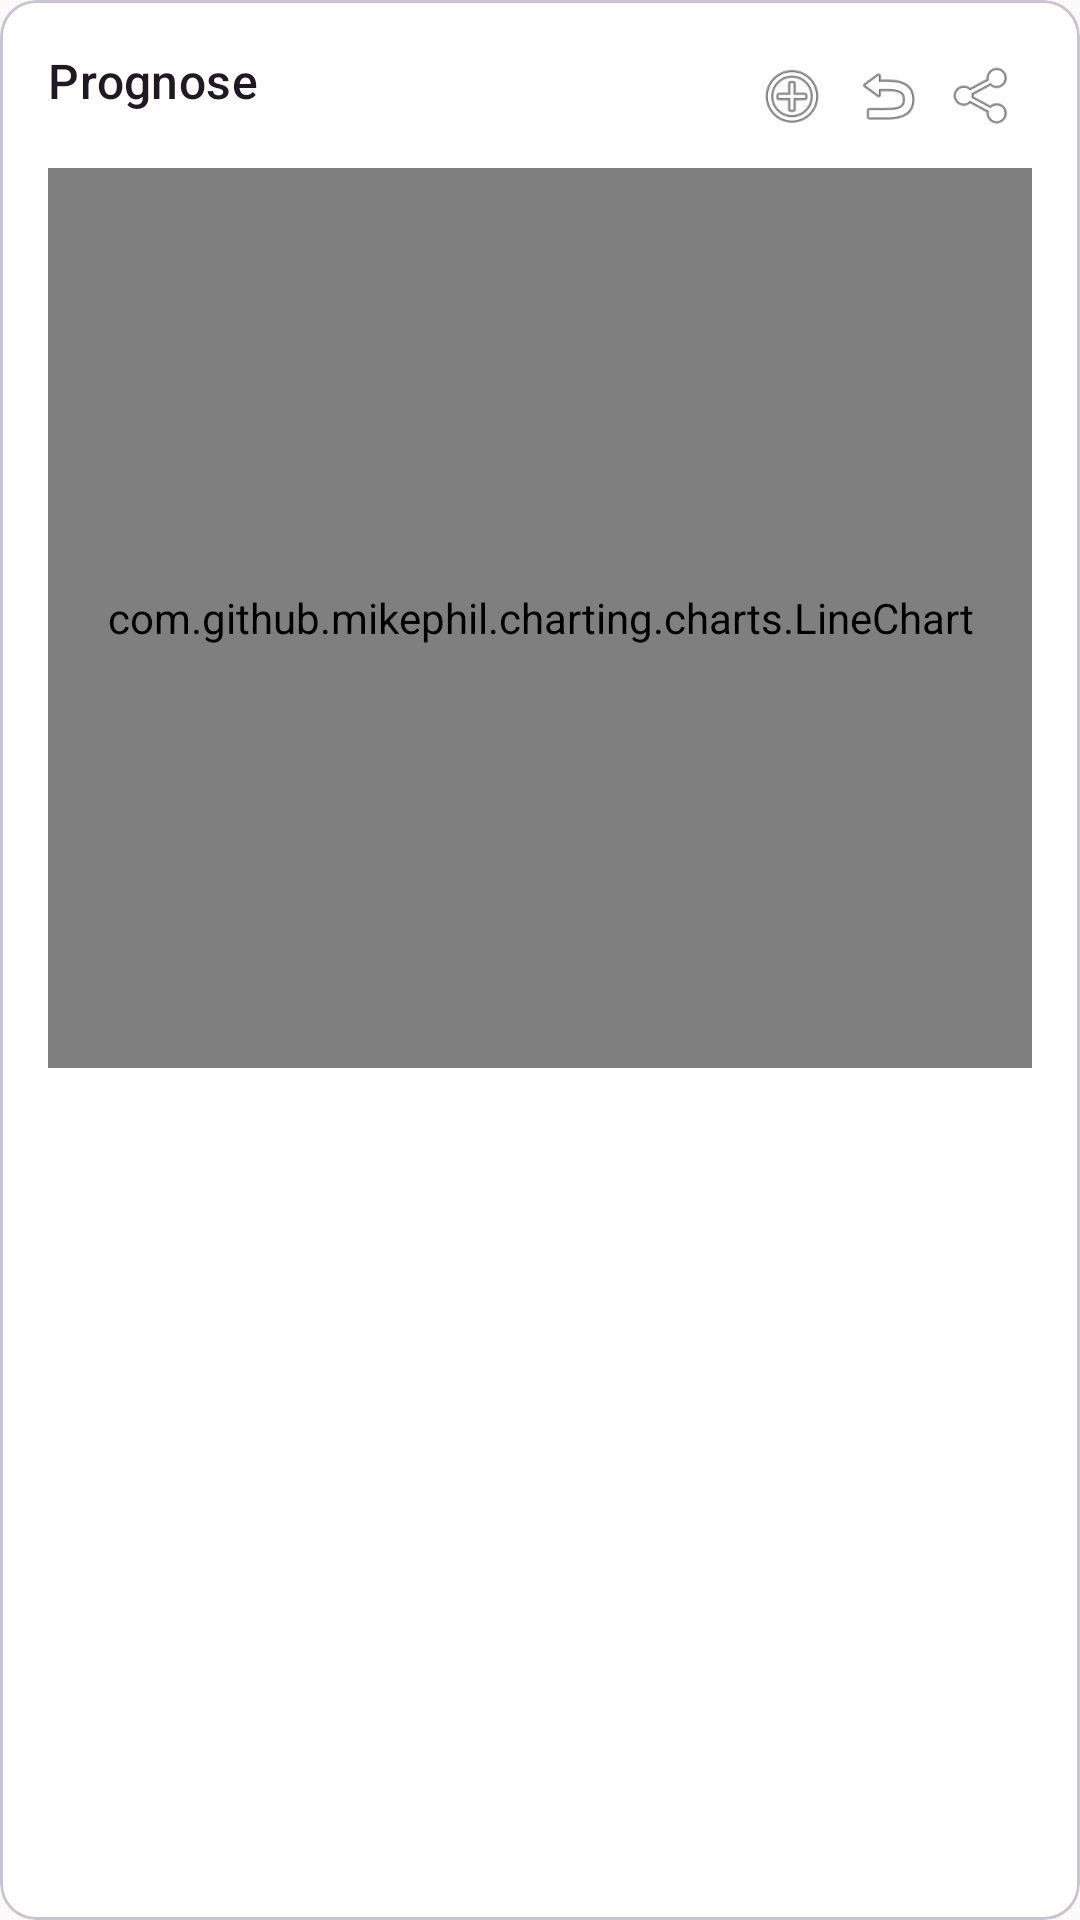

Named icons in this screenshot (1080 x 1920) and their bounding boxes, BBox(x1, y1, x2, y2):
Linien zurücksetzen: BBox(863, 73, 915, 120)
Mehr Monate: BBox(765, 70, 819, 123)
Prognose exportieren: BBox(953, 67, 1007, 124)
